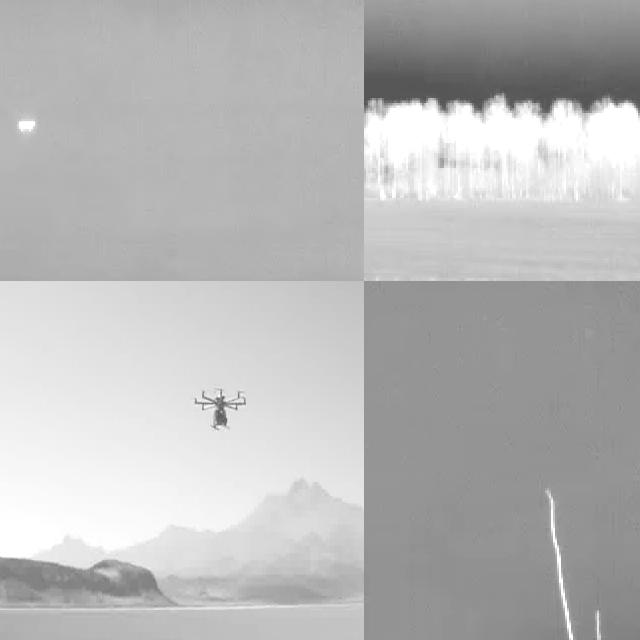1: (7, 114, 43, 144)
drone: (191, 386, 246, 431)
